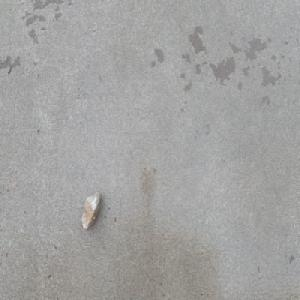Rock: (80, 186, 101, 231)
